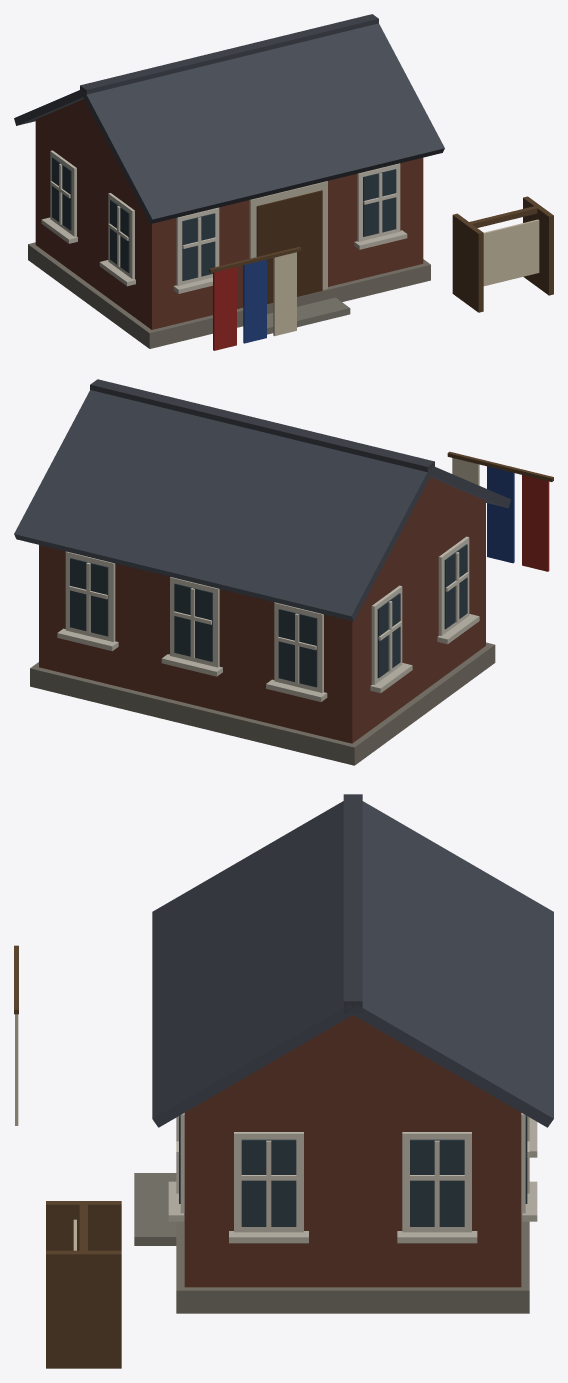
Rendered from procedural_silk_weaver@5.glb.
3 renders of one model, top to bottom at view 1: azimuth 30°, elevation 25°; view 2: azimuth 150°, elevation 25°; view 3: azimuth 270°, elevation 25°, orthographic. The views are drawn at different scales.
Parts seen in each view (by area): view 1: part_0; view 2: part_0; view 3: part_0.
Part boxes in pixels (x1,y1,x2,y2): part_0: (14,14,553,350); part_0: (14,379,553,765); part_0: (14,794,553,1368).
Bounding box in the file's own units: 7.26 × 4.15 × 6.42.
